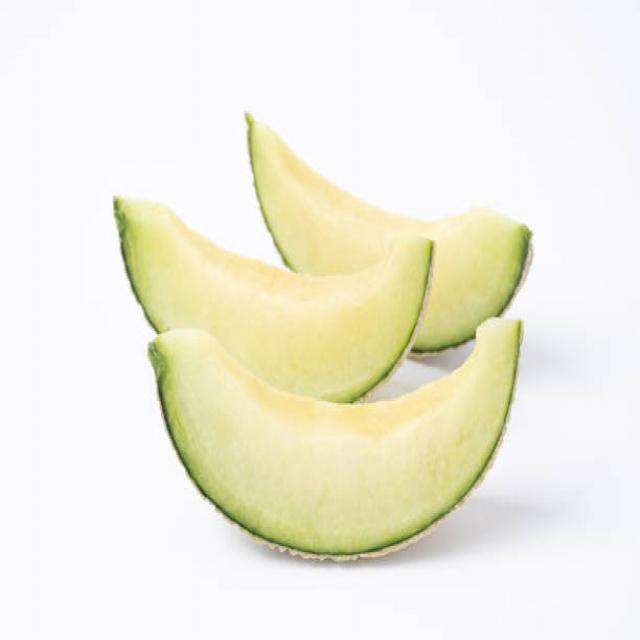Melon: (139, 322, 514, 574), (100, 181, 433, 385)
